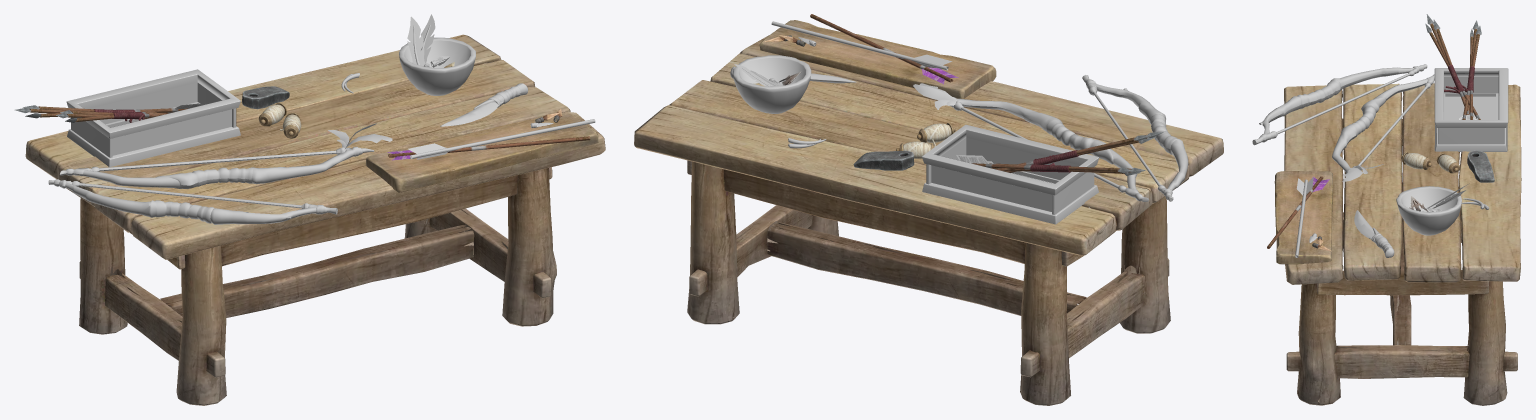
3 views of the same model, side by side, from view 1: azimuth 30°, elevation 25°; view 2: azimuth 150°, elevation 25°; view 3: azimuth 270°, elevation 25° (orthographic). The views are drawn at different scales.
Parts seen in each view (by area): view 1: SM_FletchingTable_01_LOD0; view 2: SM_FletchingTable_01_LOD0; view 3: SM_FletchingTable_01_LOD0.
Part boxes in pixels (box(x1,y1,x2,y2)): SM_FletchingTable_01_LOD0: box(14, 14, 605, 405); SM_FletchingTable_01_LOD0: box(634, 14, 1223, 405); SM_FletchingTable_01_LOD0: box(1252, 14, 1521, 405).
Size of the model in its own units: 2.41 by 1.22 by 1.38.
